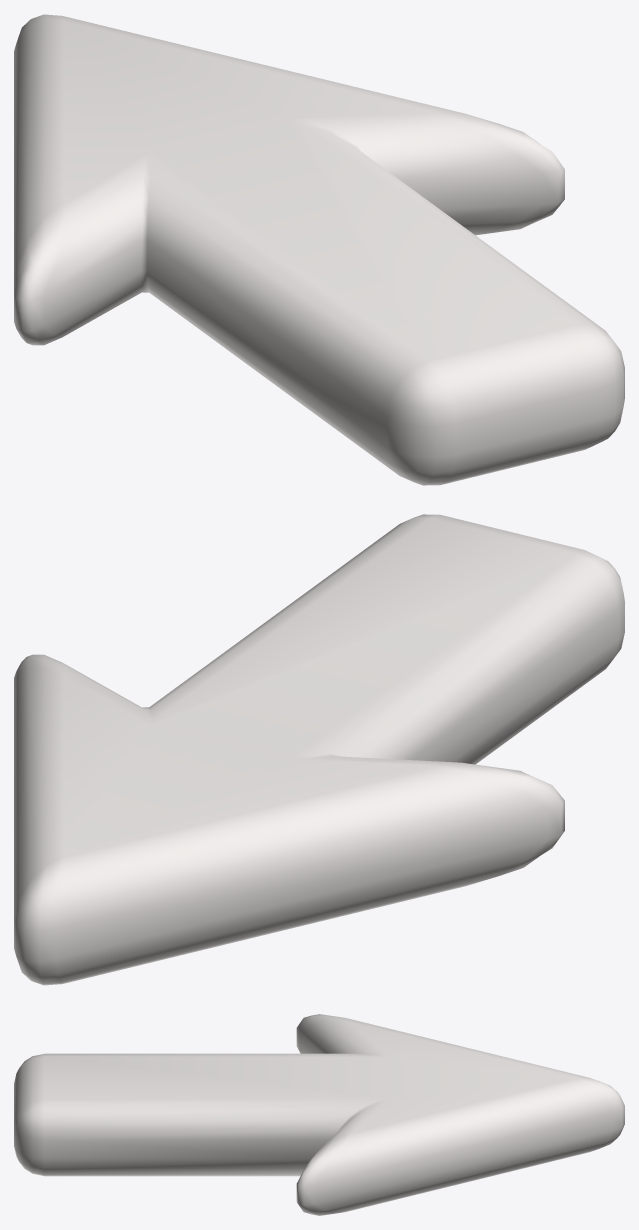
File: Arrow.fbx
3 views of the same model, one above another, from view 1: azimuth 30°, elevation 25°; view 2: azimuth 150°, elevation 25°; view 3: azimuth 270°, elevation 25° (orthographic). The views are drawn at different scales.
Visible parts, largest first — view 1: Cube; view 2: Cube; view 3: Cube.
Boxes of the visible parts, left/top/right/bottom form: Cube: left=14, top=14, right=624, bottom=485; Cube: left=14, top=514, right=624, bottom=985; Cube: left=14, top=1014, right=624, bottom=1215.
Bounding box in the file's own units: 0.6264 × 0.1331 × 1.
1 material, 1 textured.
